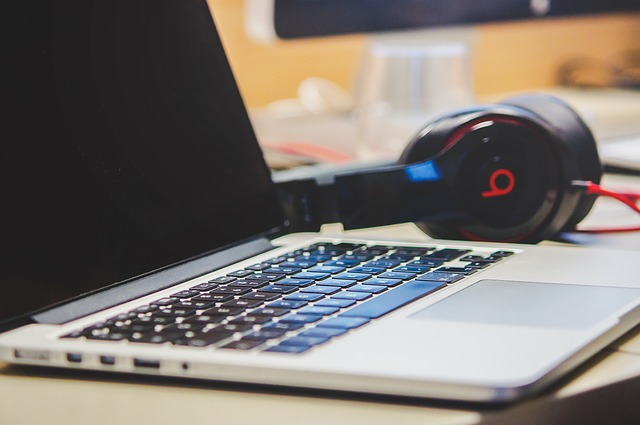headphones: (273, 93, 602, 245)
